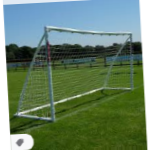goals: (14, 26, 136, 122)
